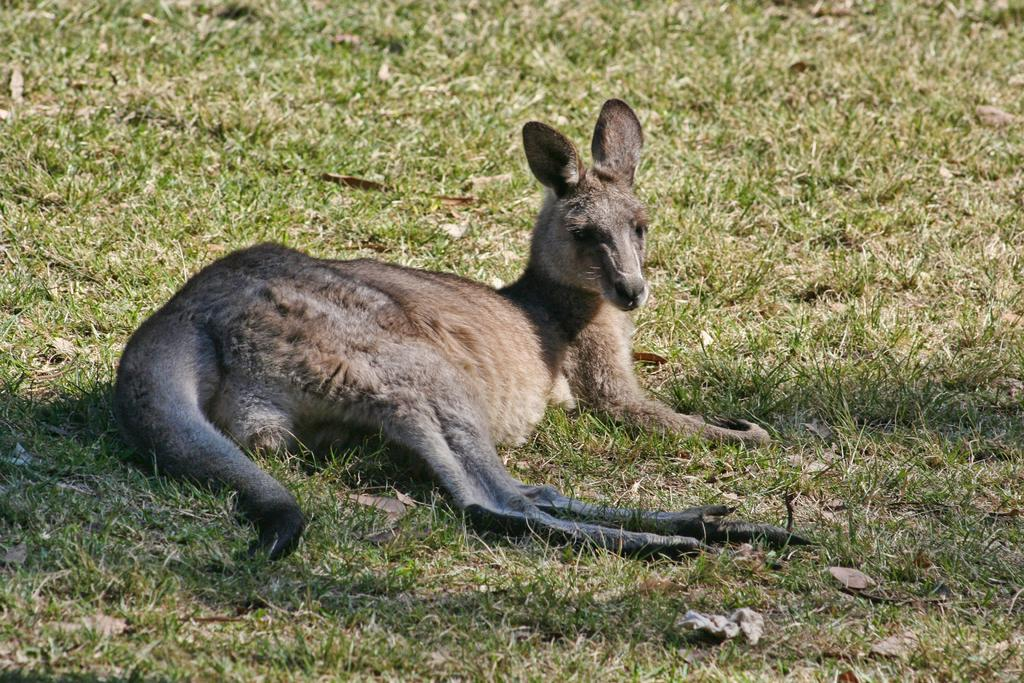kangaroo: (118, 102, 810, 560)
